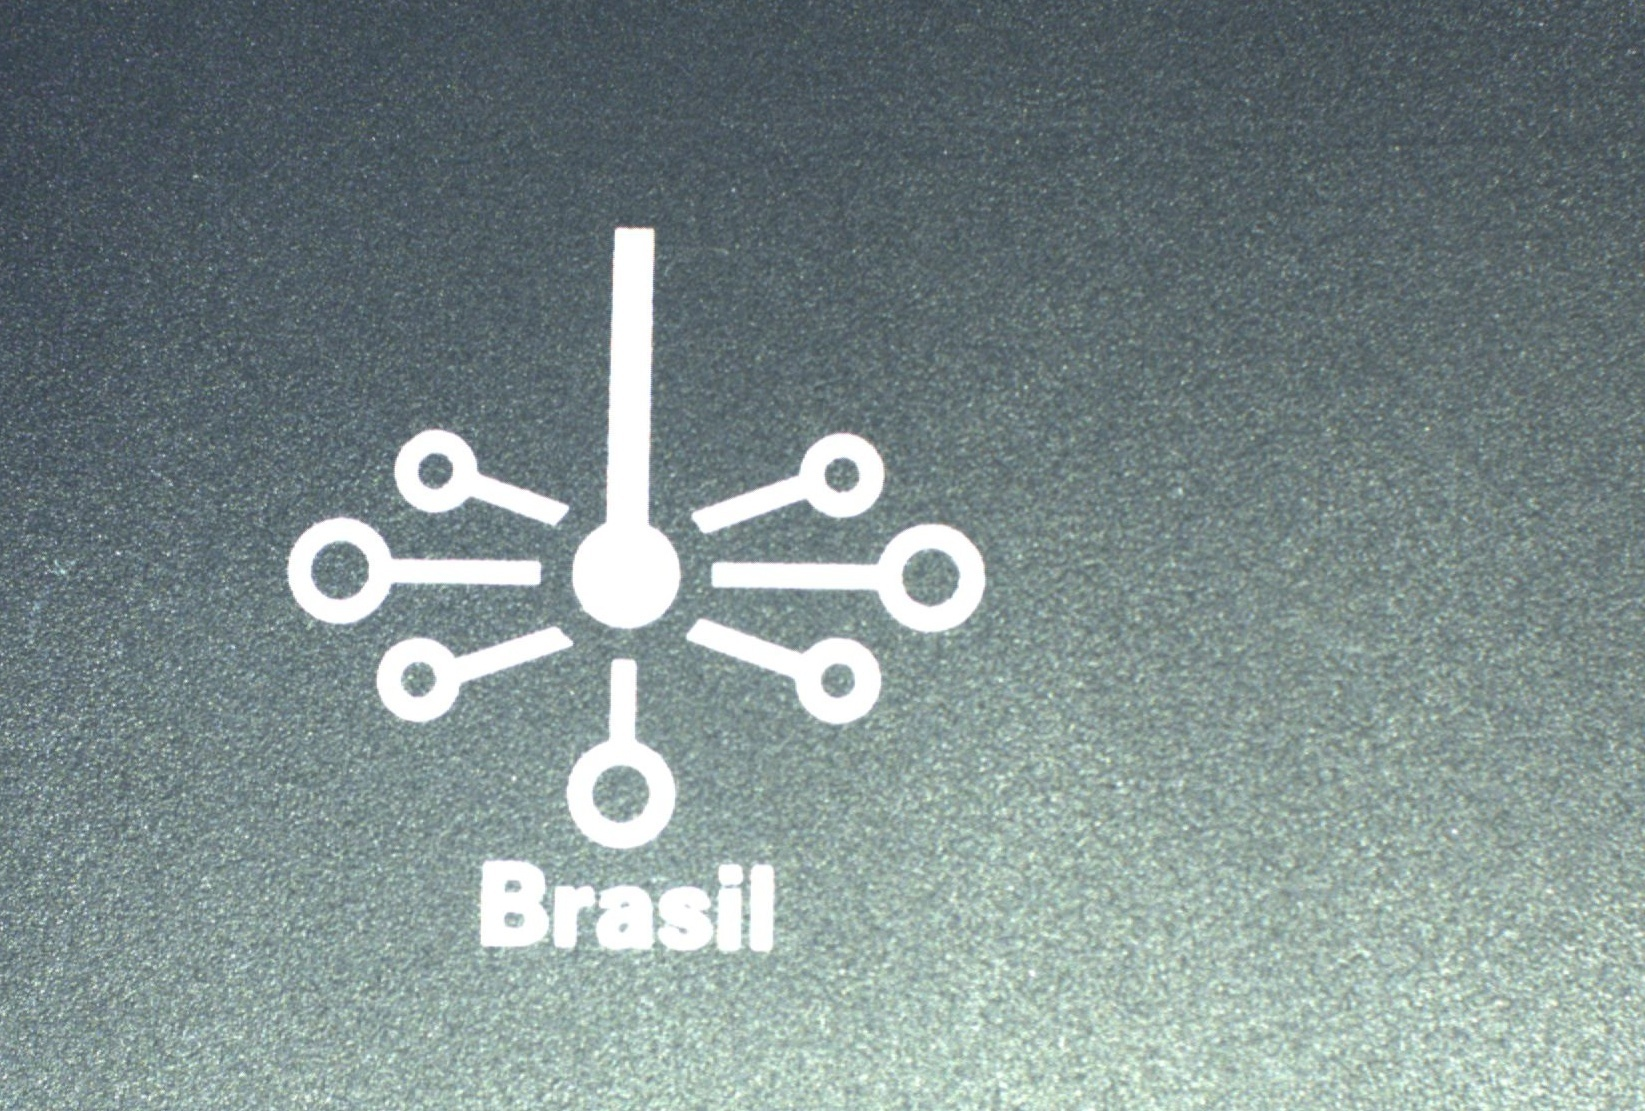BO_Brsail: (245, 215, 999, 991)
